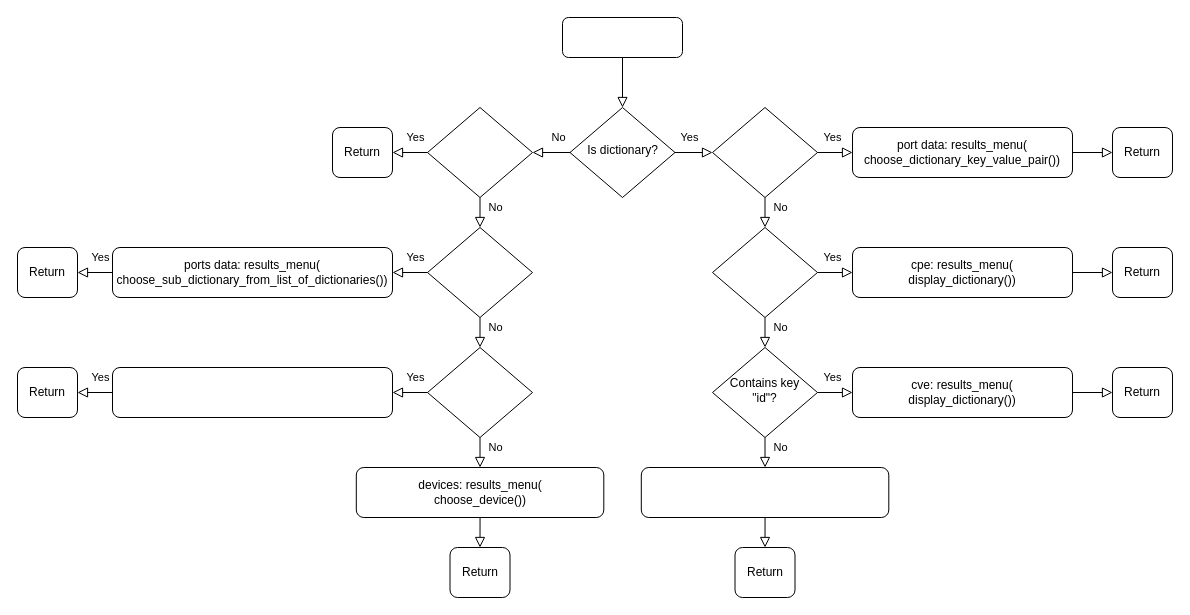
Some shapes in this 1190 by 615 pixel diagram are drawn without their labels. The centre of each missing label's shape, as x and y in pixels:
Contains dictionary containing key "id"?: point (479, 392)
Contains dictionary containing key "port"?: point (479, 272)
Contains key "cpeName"?: point (765, 272)
Contains key "port"?: point (765, 152)
cves: results_menu( choose_sub_dictionary_from_list_of_dictionaries()): point (252, 392)
interfaces: results_menu( choose_dictionary_value_from_dictionary()): point (764, 492)
Is empty?: point (479, 152)
results_menu(data): point (622, 37)
